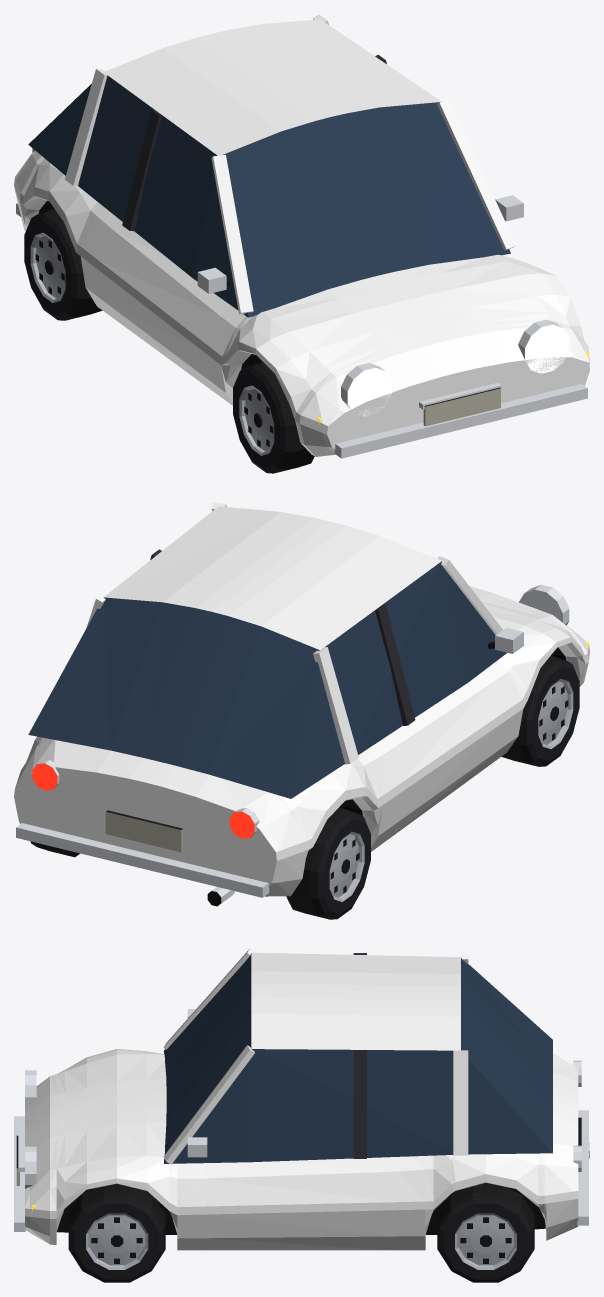
File: micro.glb
3 views of the same model, one above another, from view 1: azimuth 30°, elevation 25°; view 2: azimuth 150°, elevation 25°; view 3: azimuth 270°, elevation 25° (orthographic). The views are drawn at different scales.
Parts seen in each view (by area): view 1: glass, paint, stripe_a, chrome, tire_side (×2), rim (×2), stripe_b, headlight, tire (×2), plate, trim_soft; view 2: glass, paint, stripe_a, chrome, tire_side (×2), rim (×2), tire (×2), stripe_b, plate, trim_soft, taillight; view 3: paint, glass, stripe_a, tire_side (×2), rim (×2), stripe_b, chrome, tire (×2), trim_soft, trim_under.
Part boxes in pixels (left/top/right/bottom): glass: left=28, top=75, right=510, bottom=317; paint: left=14, top=14, right=589, bottom=456; stripe_a: left=103, top=19, right=507, bottom=386; chrome: left=16, top=148, right=587, bottom=458; tire_side (×2): left=24, top=214, right=314, bottom=472; rim (×2): left=30, top=232, right=274, bottom=455; stripe_b: left=14, top=177, right=589, bottom=434; headlight: left=347, top=324, right=569, bottom=416; tire (×2): left=32, top=209, right=313, bottom=473; plate: left=423, top=388, right=500, bottom=426; trim_soft: left=122, top=54, right=386, bottom=231; glass: left=28, top=561, right=506, bottom=798; paint: left=14, top=502, right=588, bottom=896; stripe_a: left=96, top=506, right=493, bottom=796; chrome: left=16, top=584, right=569, bottom=904; tire_side (×2): left=286, top=660, right=579, bottom=918; rim (×2): left=329, top=678, right=573, bottom=901; tire (×2): left=287, top=656, right=571, bottom=919; stripe_b: left=276, top=637, right=589, bottom=860; plate: left=105, top=812, right=183, bottom=852; trim_soft: left=150, top=549, right=415, bottom=725; taillight: left=32, top=763, right=254, bottom=838; paint: left=25, top=948, right=578, bottom=1250; glass: left=164, top=953, right=552, bottom=1163; stripe_a: left=25, top=952, right=578, bottom=1146; tire_side (×2): left=70, top=1198, right=532, bottom=1282; rim (×2): left=86, top=1213, right=516, bottom=1269; stripe_b: left=25, top=1174, right=578, bottom=1218; chrome: left=14, top=1009, right=589, bottom=1231; tire (×2): left=68, top=1183, right=534, bottom=1270; trim_soft: left=353, top=953, right=366, bottom=1158; trim_under: left=57, top=1182, right=545, bottom=1234.
Bounding box in the file's own units: 1.92 × 1.52 × 3.44.
